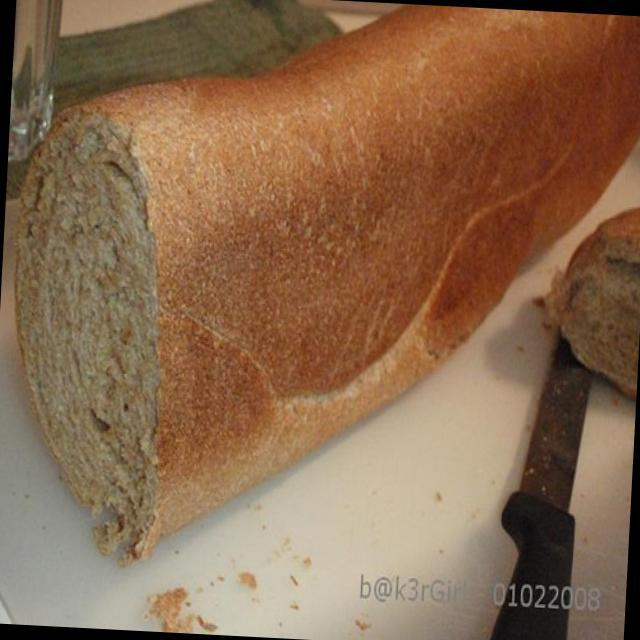Bread: (4, 0, 413, 354)
